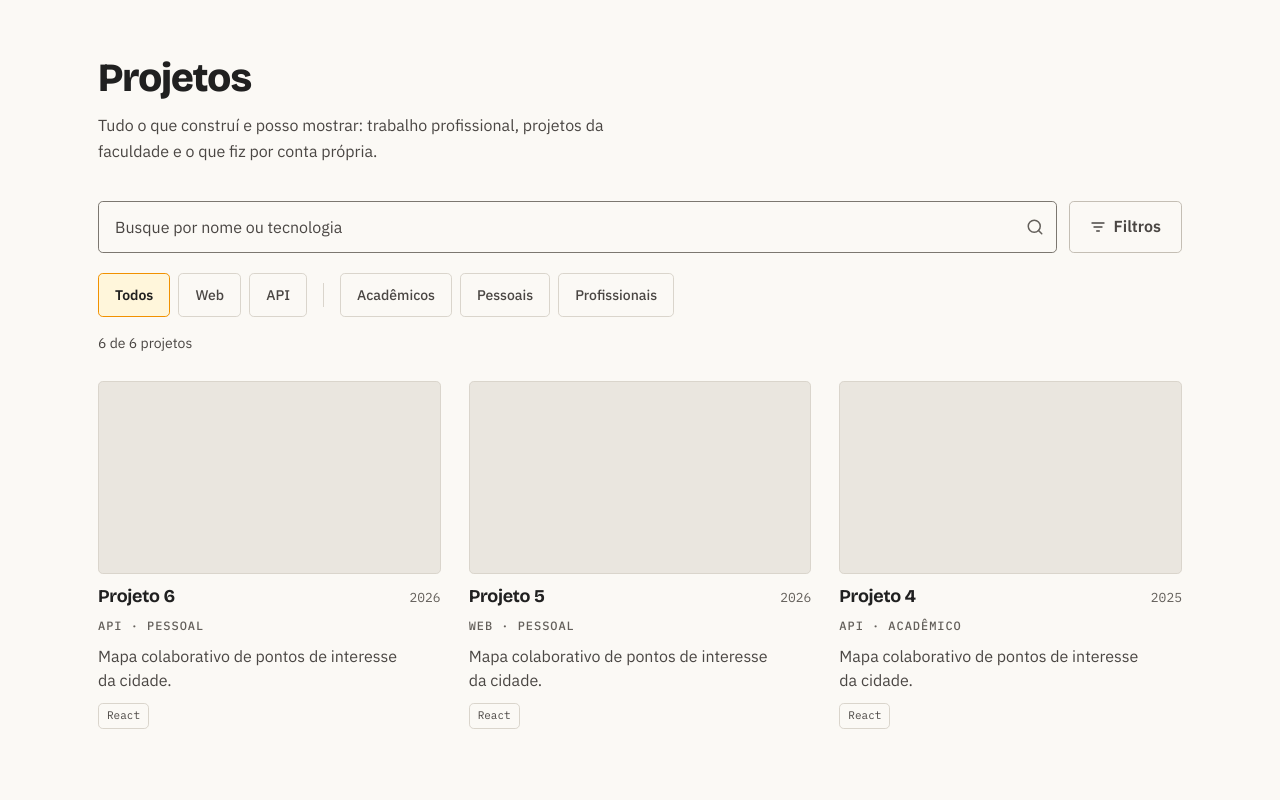
ProjectsPage, filtros por tecnologia e ano › Aplicar escreve tech por replace, mostra só os projetos com todas, anuncia o total e devolve o foco ao botão
Check: the message reads "6 de 6 projetos", box [98,332,192,355]
Step 1. Click the button "Filtros" → x=1125, y=227, box [1068,201,1182,253]
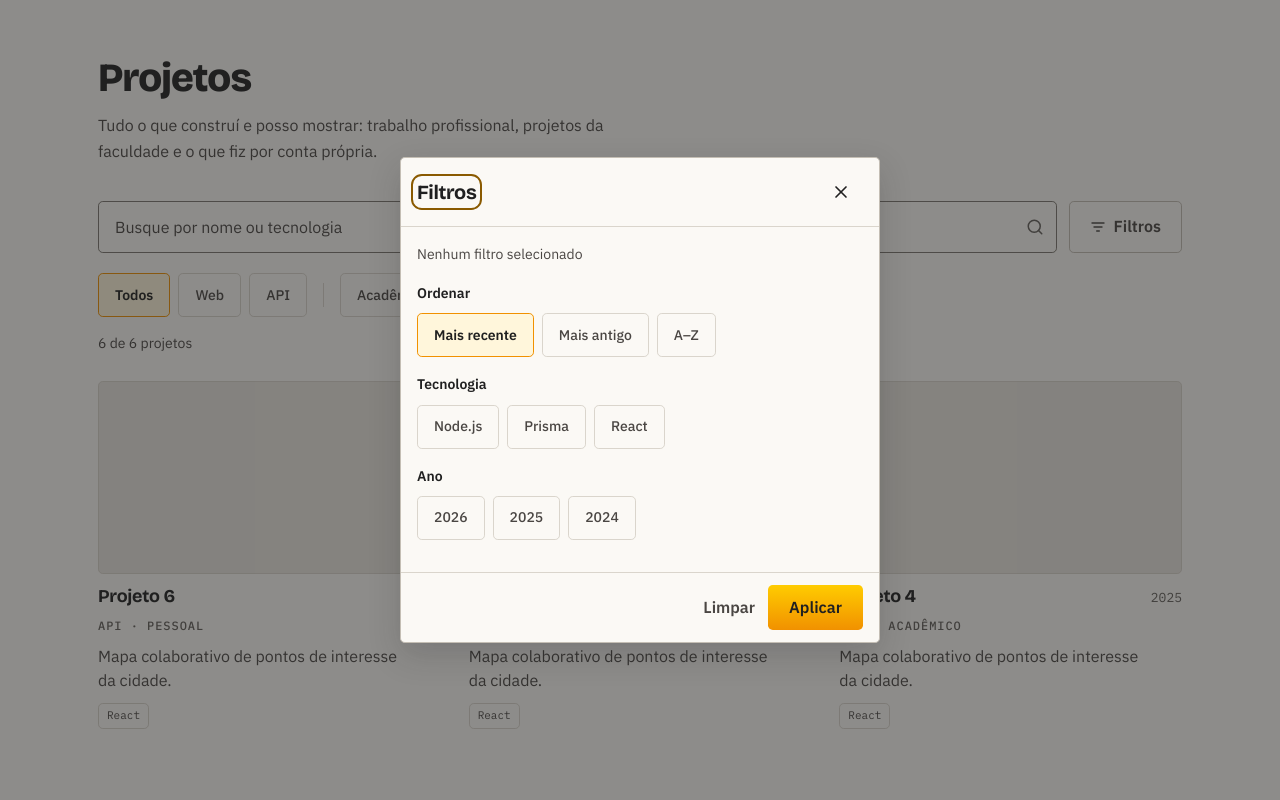
Step 2. Click the checkbox labelled "React" → x=629, y=426, box [594,404,665,448]
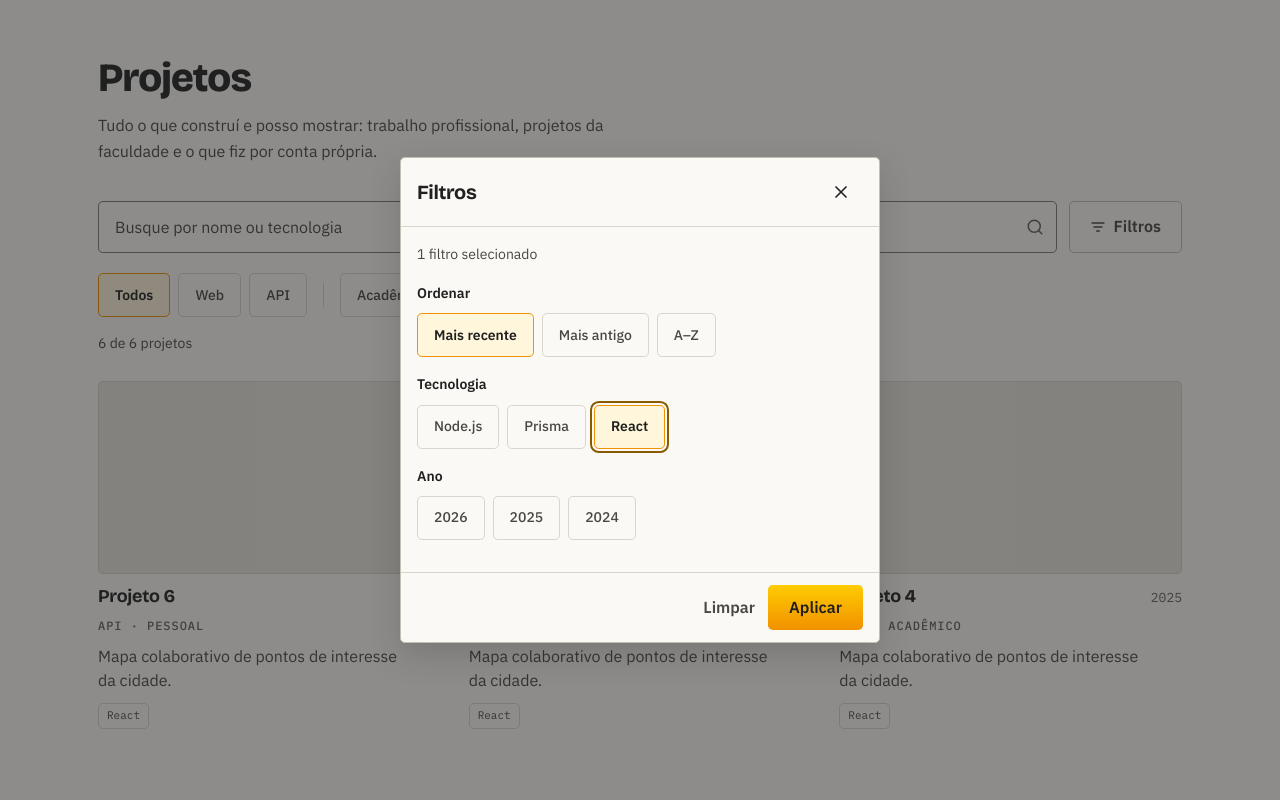
Step 3. Click the checkbox labelled "Node.js" → x=458, y=426, box [417,404,499,448]
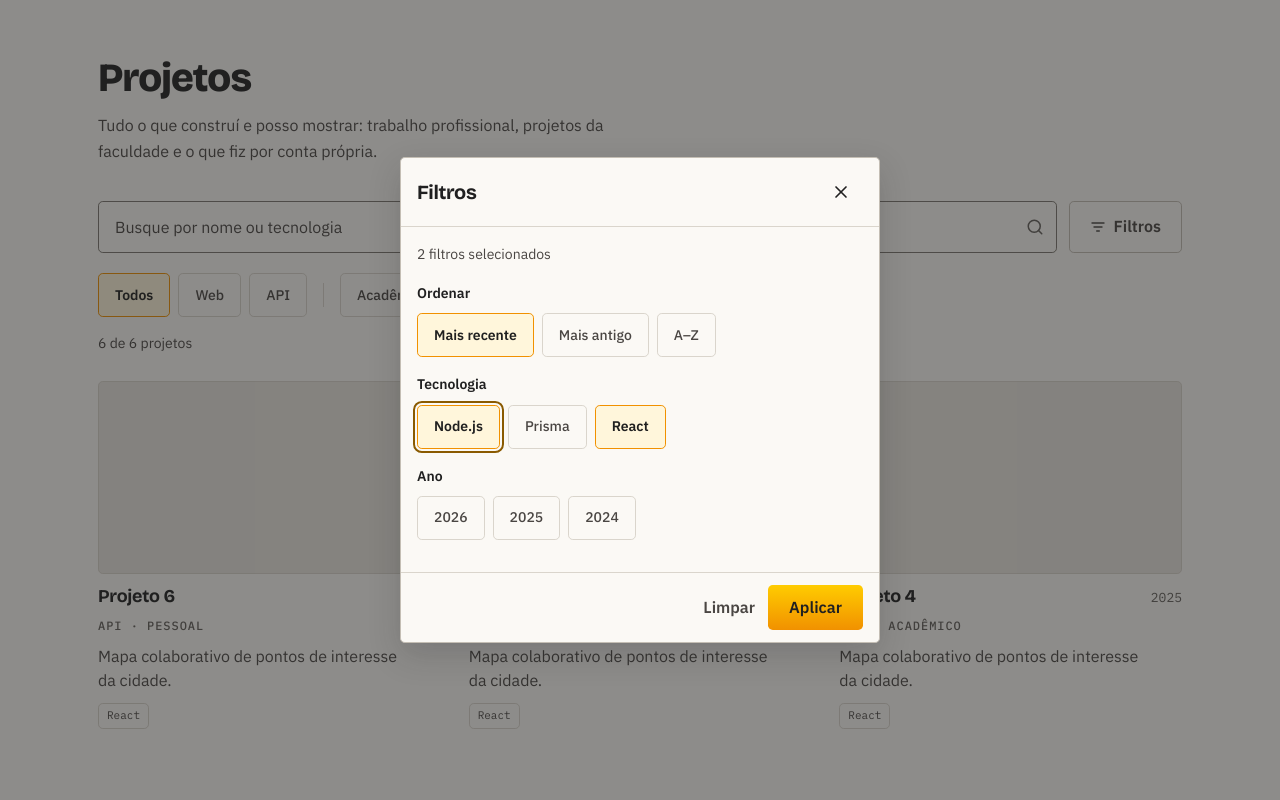
Step 4. Click the button "Aplicar" → x=816, y=607, box [768,585,863,630]
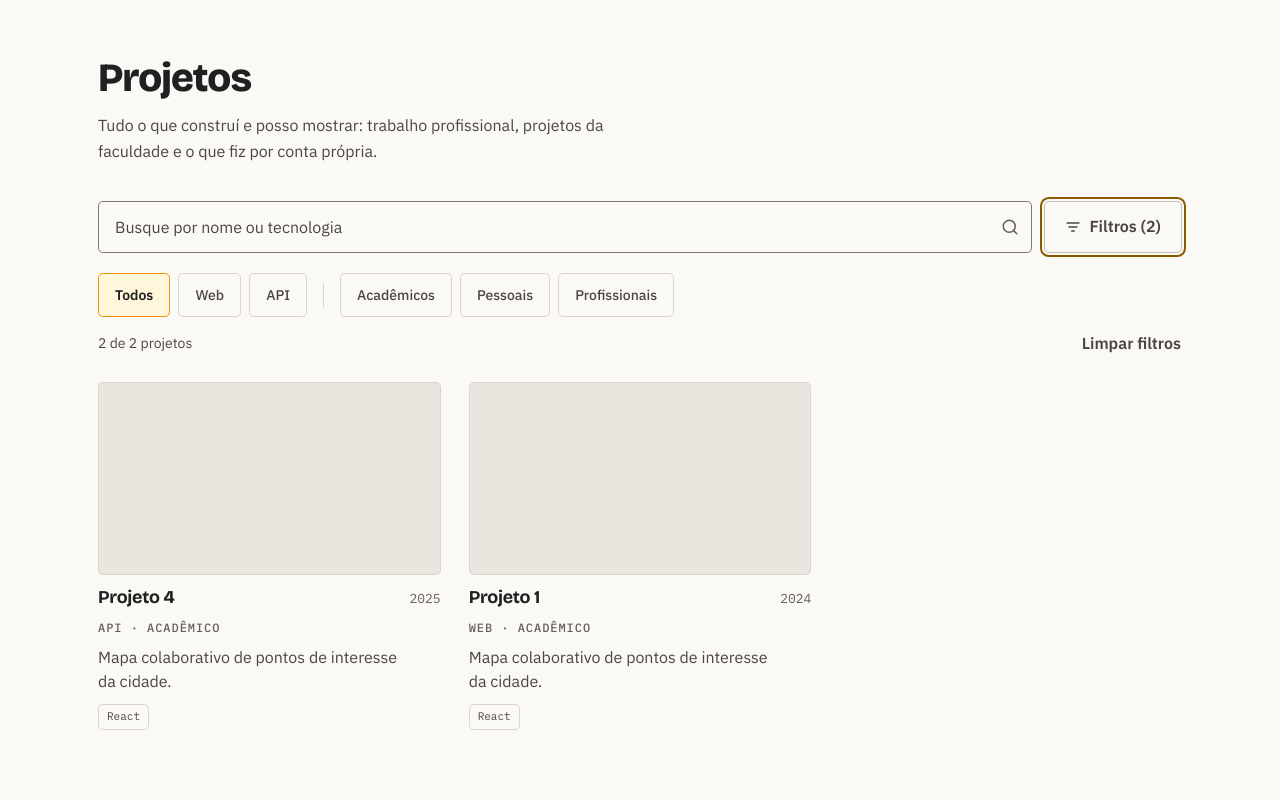
Check: the message reads "2 de 2 projetos", box [98,334,192,352]
Check: the dialog is gone
